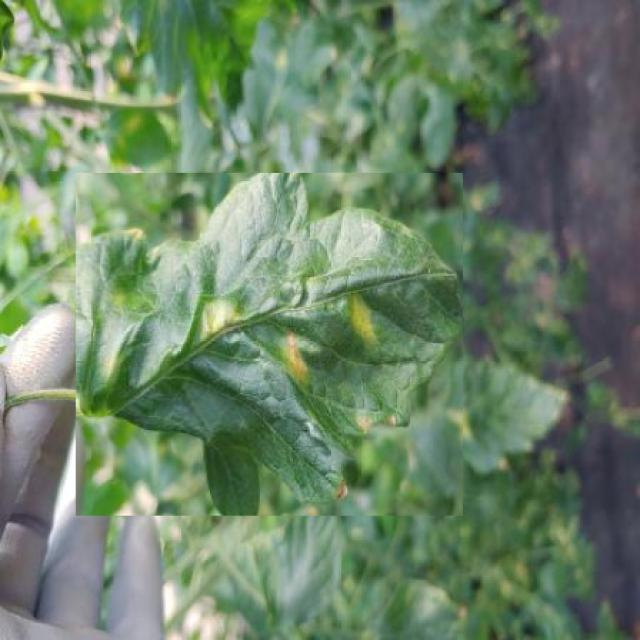Leaf Mold: (76, 173, 463, 516)
